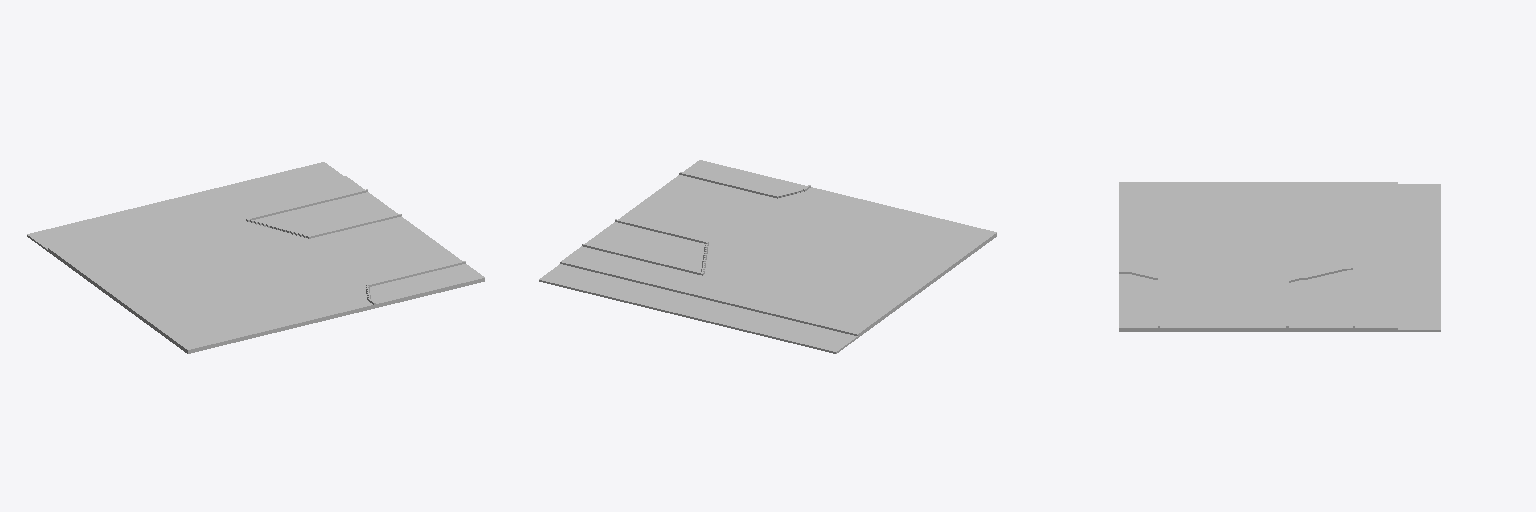
File: Tile05.obj
The picture shows the model from 3 angles: view 1: azimuth 30°, elevation 25°; view 2: azimuth 150°, elevation 25°; view 3: azimuth 270°, elevation 25°; orthographic projection.
Visible parts, largest first — view 1: Content; view 2: Content; view 3: Content.
Boxes of the visible parts, box(x1,y1,x2,y2) form: Content: box(27, 162, 484, 353); Content: box(539, 160, 996, 353); Content: box(1119, 182, 1440, 331).
Bounding box in the file's own units: 24 × 0.45 × 22.5.